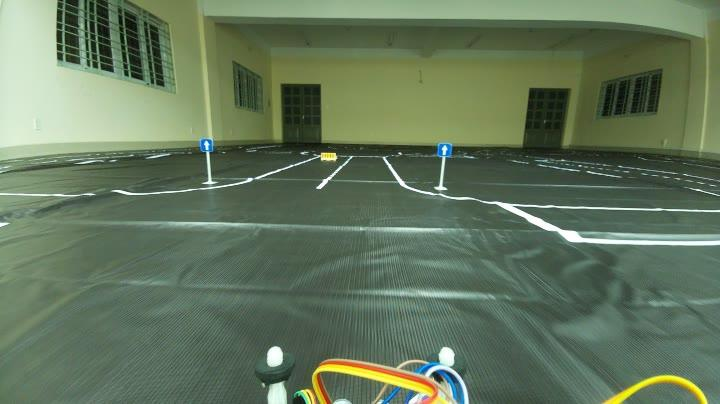onewayroad: (197, 134, 214, 155), (436, 140, 455, 158)
roadblock: (318, 150, 338, 160)
